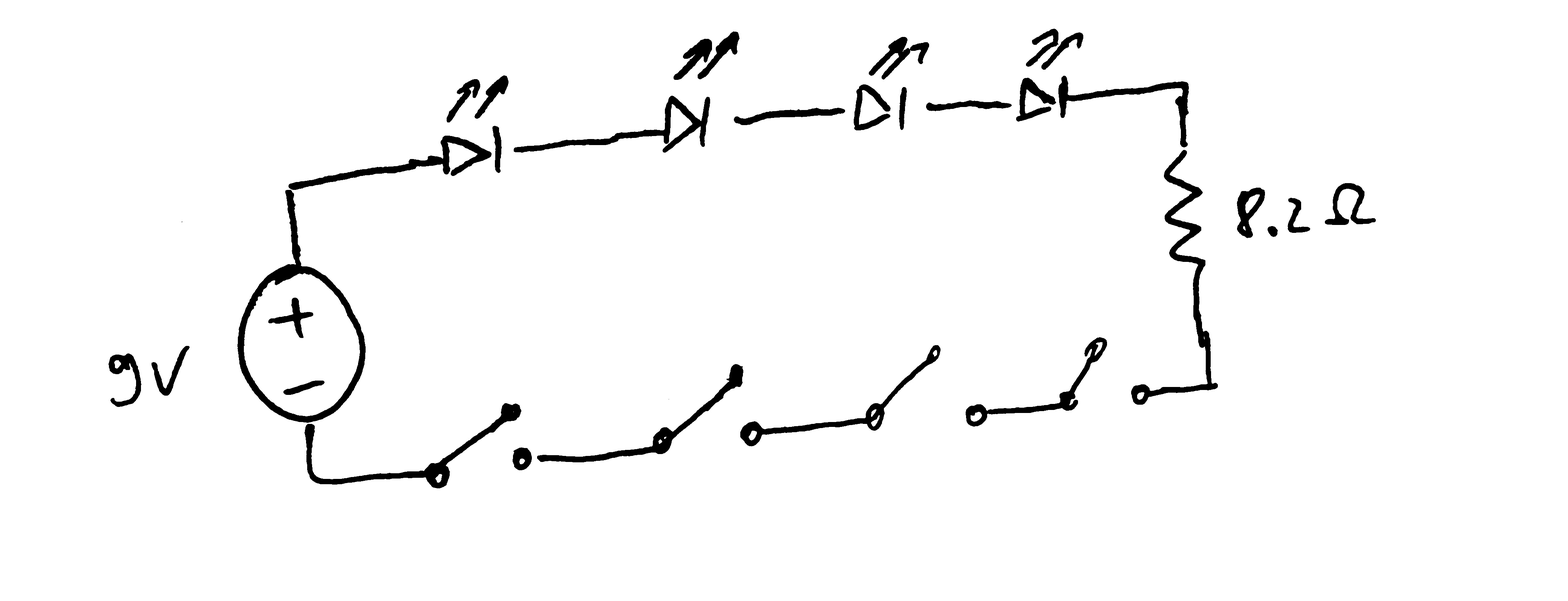diode.light_emitting: (658, 28, 748, 152), (845, 30, 932, 142), (435, 69, 514, 184), (1015, 24, 1089, 125)
junction: (273, 169, 314, 210), (298, 461, 334, 497), (1193, 369, 1229, 405), (1165, 75, 1196, 106)
resistor: (1162, 141, 1208, 296)
switch: (648, 364, 772, 465), (863, 342, 994, 436), (424, 395, 542, 494), (1054, 334, 1161, 417)
text: (1232, 177, 1378, 237), (102, 343, 200, 411)
voltage.dc: (225, 256, 382, 436)
